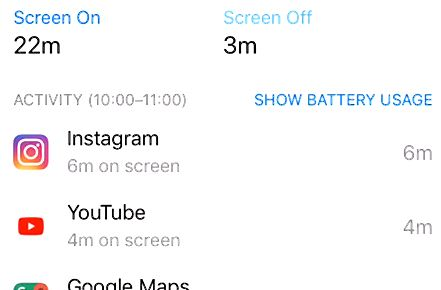activity: (8, 88, 195, 115)
app: (5, 192, 437, 257), (7, 123, 440, 185)
